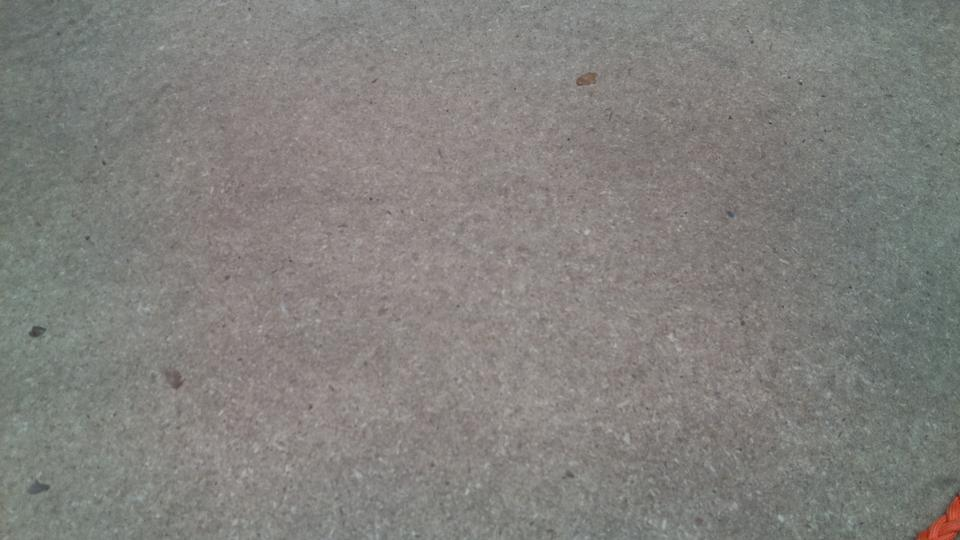rope: (913, 495, 960, 540)
